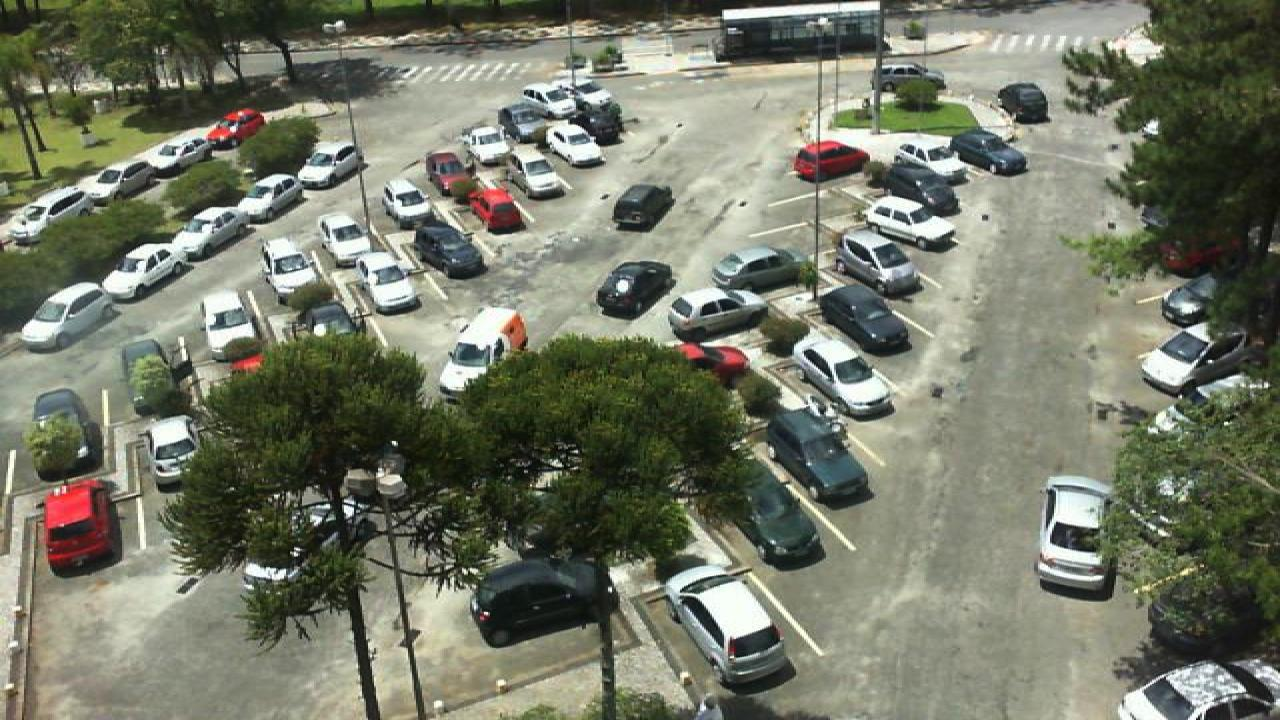Car: (666, 562, 796, 688), (468, 555, 608, 647), (760, 405, 870, 506), (728, 456, 826, 564), (1034, 475, 1118, 597), (1116, 659, 1280, 720), (796, 330, 898, 420), (436, 307, 526, 403), (38, 478, 122, 575), (1138, 325, 1250, 395), (22, 388, 100, 479), (816, 282, 912, 354), (18, 281, 116, 351), (100, 243, 202, 301), (1152, 375, 1254, 432), (668, 287, 772, 342), (838, 230, 922, 294), (708, 246, 806, 295), (860, 196, 958, 244), (200, 288, 262, 362), (144, 414, 202, 492), (596, 260, 674, 318), (408, 224, 486, 279), (170, 209, 252, 259), (360, 250, 424, 312), (116, 335, 172, 404), (10, 187, 92, 234), (886, 164, 960, 215), (670, 341, 750, 388), (84, 156, 160, 204), (952, 130, 1028, 176), (1158, 272, 1222, 326), (262, 237, 318, 297), (610, 182, 674, 232), (792, 140, 870, 181), (318, 212, 374, 268), (234, 173, 302, 218), (296, 142, 360, 189), (894, 142, 970, 179), (468, 186, 526, 234), (544, 124, 604, 170), (424, 151, 480, 200), (148, 129, 214, 170), (382, 178, 434, 230), (508, 154, 564, 202), (562, 101, 624, 144), (556, 79, 622, 119), (204, 108, 266, 147), (300, 298, 356, 341), (498, 104, 556, 144), (518, 80, 582, 116), (998, 82, 1050, 125), (876, 62, 950, 92), (462, 125, 510, 166)
